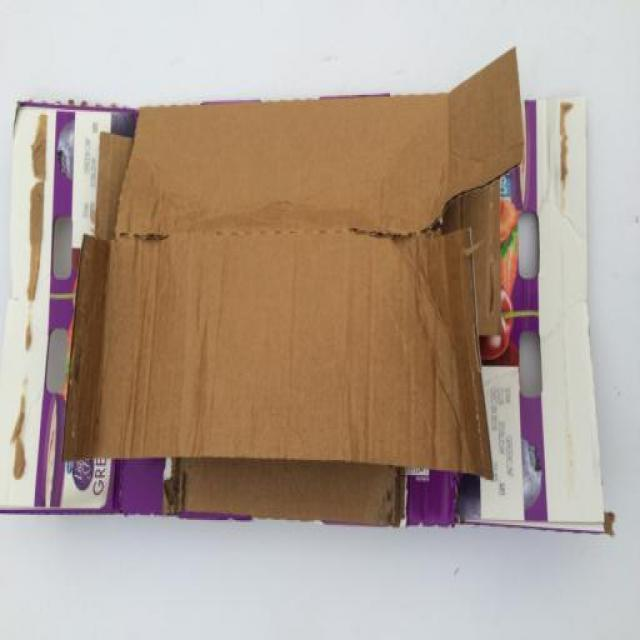cardboard: (1, 50, 612, 550)
